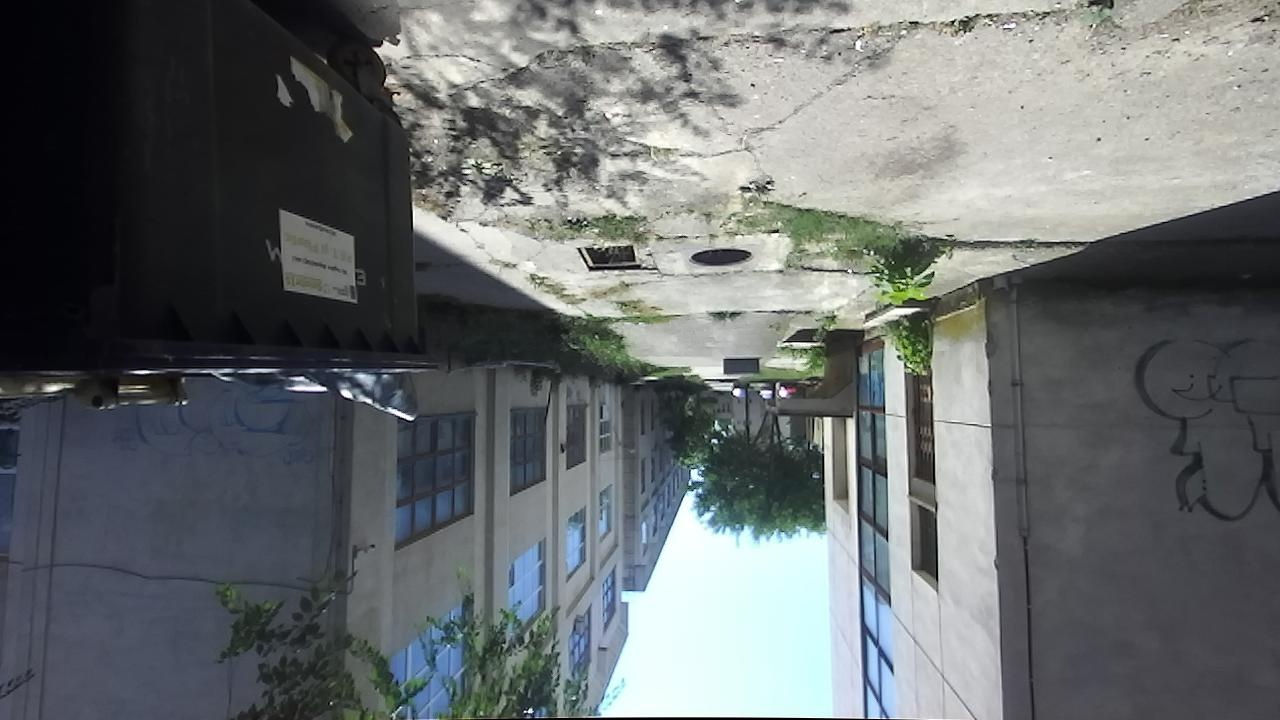drain: (566, 238, 641, 273), (682, 245, 755, 271)
